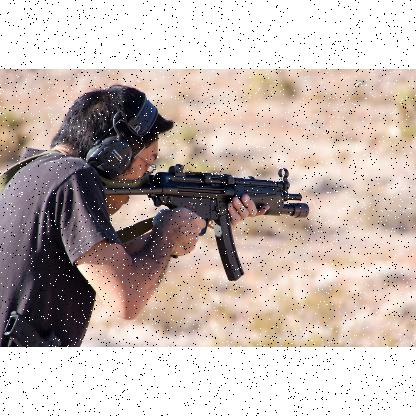gun: (102, 166, 306, 280)
